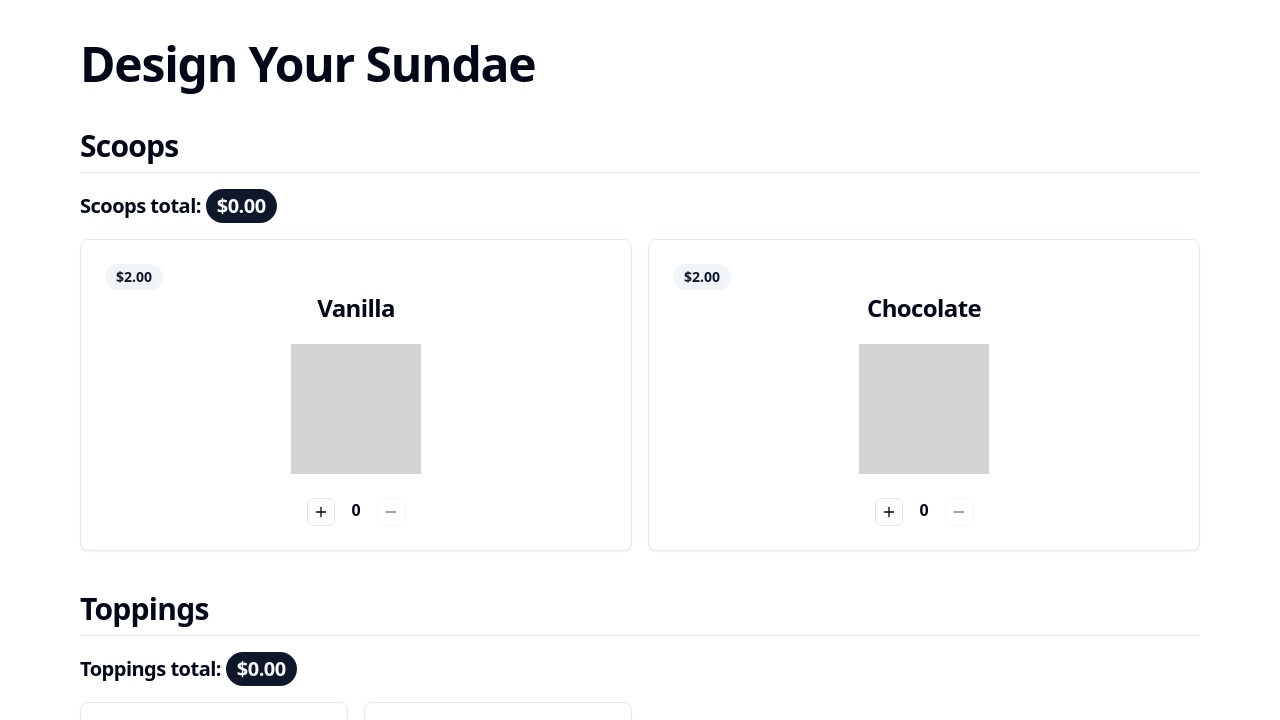
Test case: check if order button is disabled when nothing is selected
This screenshot has width=1280, height=720.
Click the 1st button titled "plus" at {"x": 321, "y": 512}, box [307,498,335,526]
(page scrolled)
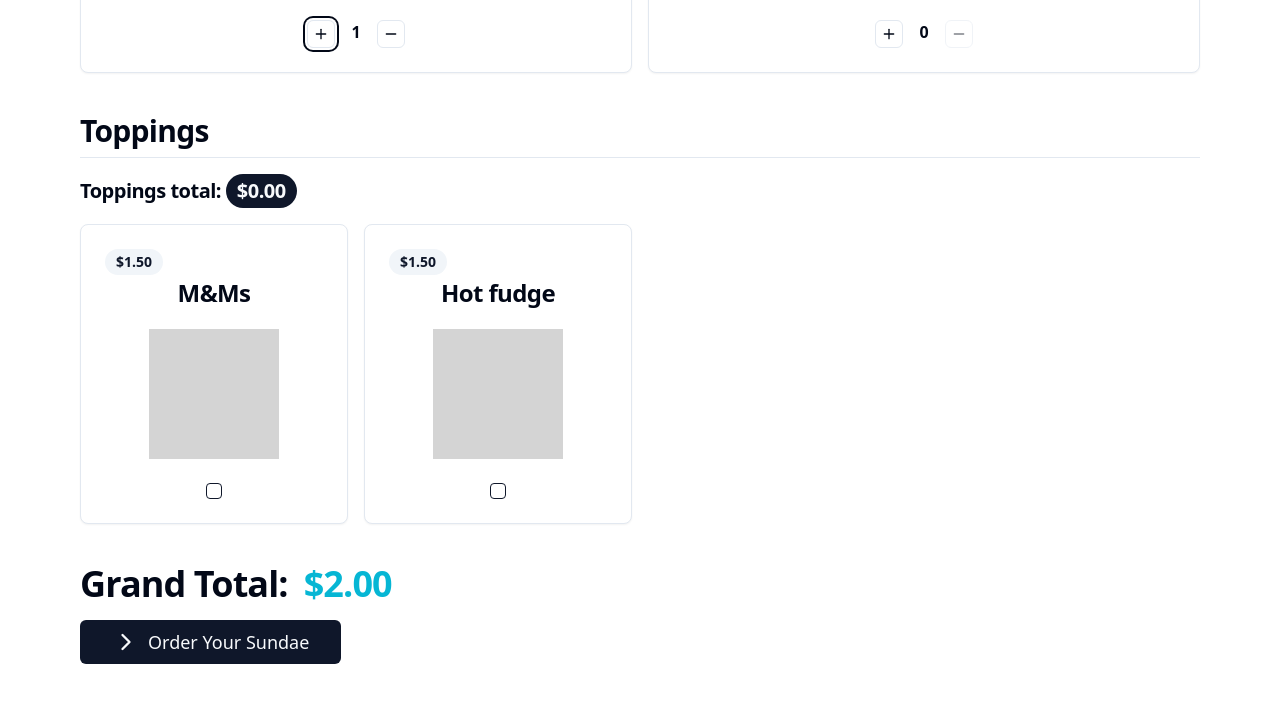
Now the button "Order Your Sundae" is enabled, box [80,620,341,664]
